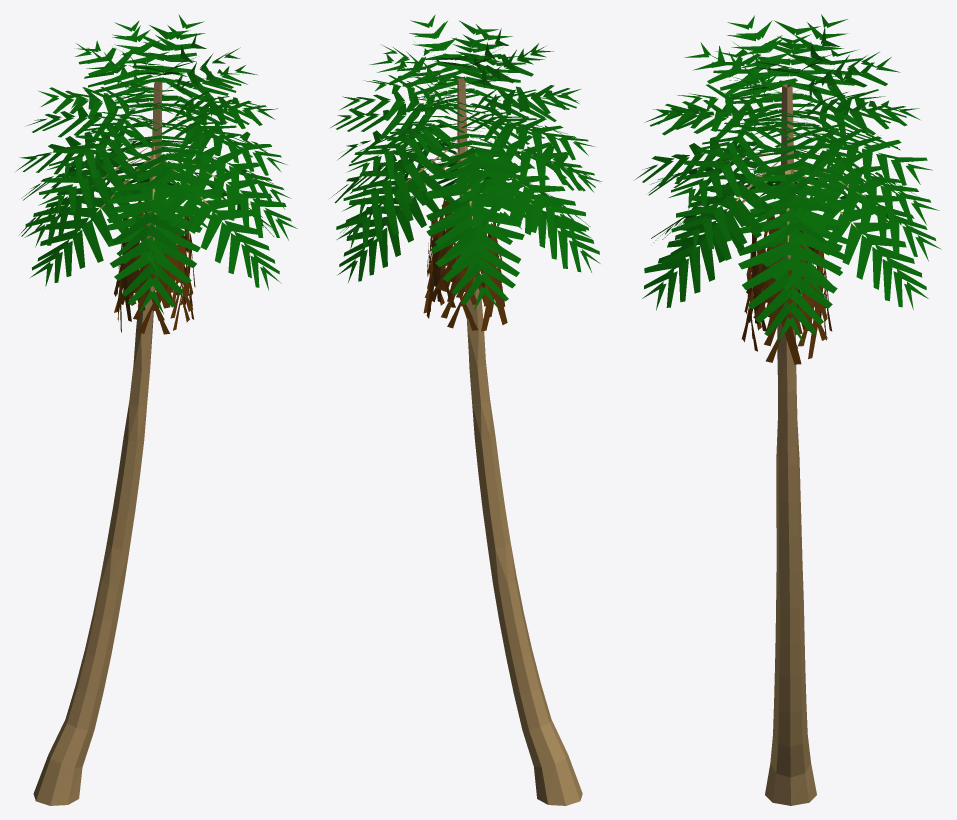
File: Palm3LOD1.FBX
3 renders of one model, left to right at view 1: azimuth 30°, elevation 25°; view 2: azimuth 150°, elevation 25°; view 3: azimuth 270°, elevation 25°, orthographic. The views are drawn at different scales.
Parts seen in each view (by area): view 1: Palm3_2, Palm3_1, Palm3_3; view 2: Palm3_2, Palm3_1, Palm3_3; view 3: Palm3_2, Palm3_1, Palm3_3.
Part boxes in pixels (x1=…): Palm3_2: x1=15, y1=14, x2=297, y2=313; Palm3_1: x1=33, y1=81, x2=162, y2=805; Palm3_3: x1=114, y1=201, x2=195, y2=334; Palm3_2: x1=329, y1=14, x2=602, y2=310; Palm3_1: x1=457, y1=78, x2=582, y2=805; Palm3_3: x1=423, y1=199, x2=507, y2=331; Palm3_2: x1=633, y1=14, x2=941, y2=343; Palm3_1: x1=765, y1=83, x2=816, y2=805; Palm3_3: x1=741, y1=215, x2=832, y2=364.
Bounding box in the file's own units: 189 × 528 × 184.
